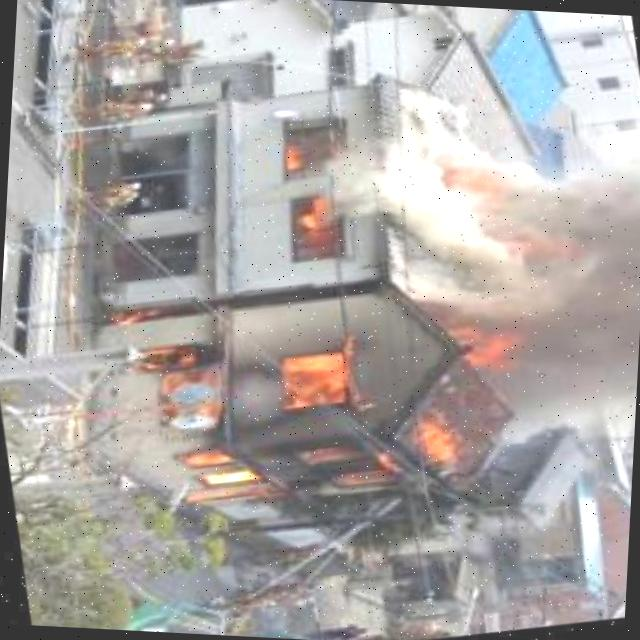fire: (140, 295, 533, 533), (271, 120, 366, 260)
